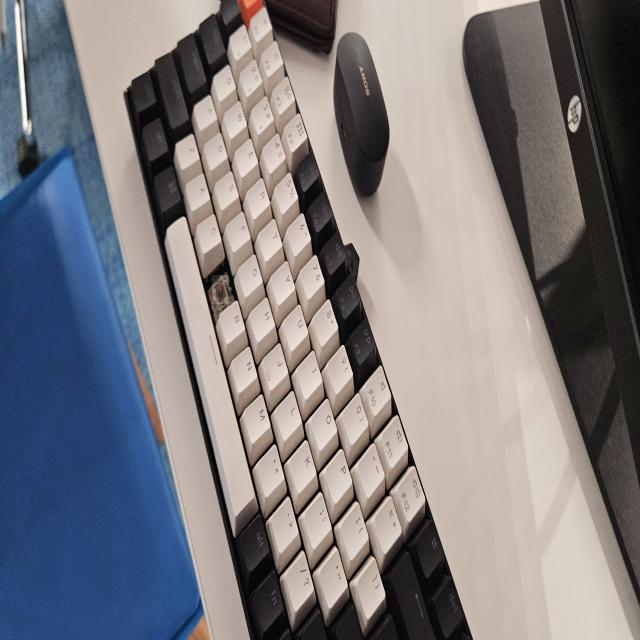C: (212, 275, 229, 304)
